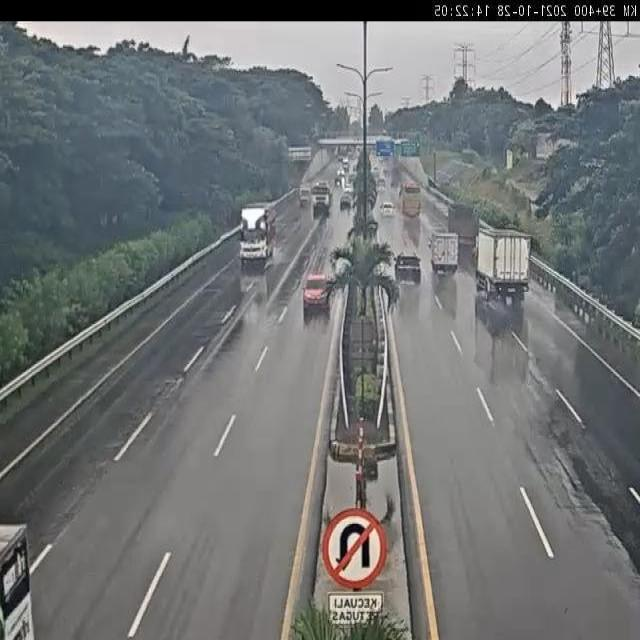Bus: (399, 180, 423, 219)
Car: (302, 273, 332, 317), (392, 251, 422, 284), (378, 201, 395, 218), (339, 195, 352, 212)
Truck: (474, 226, 532, 298), (238, 201, 278, 261), (446, 202, 480, 250), (430, 232, 459, 275), (311, 181, 332, 213), (299, 184, 312, 207)
